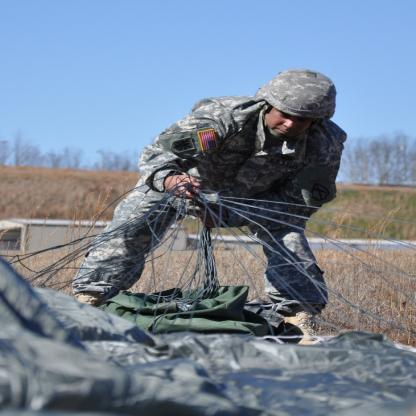Helmet: (256, 72, 337, 141)
